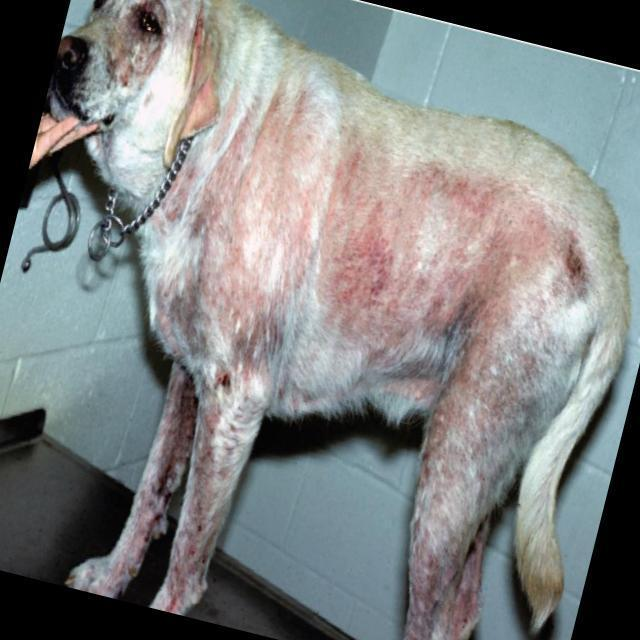mange: (198, 152, 566, 362), (420, 341, 537, 488)
